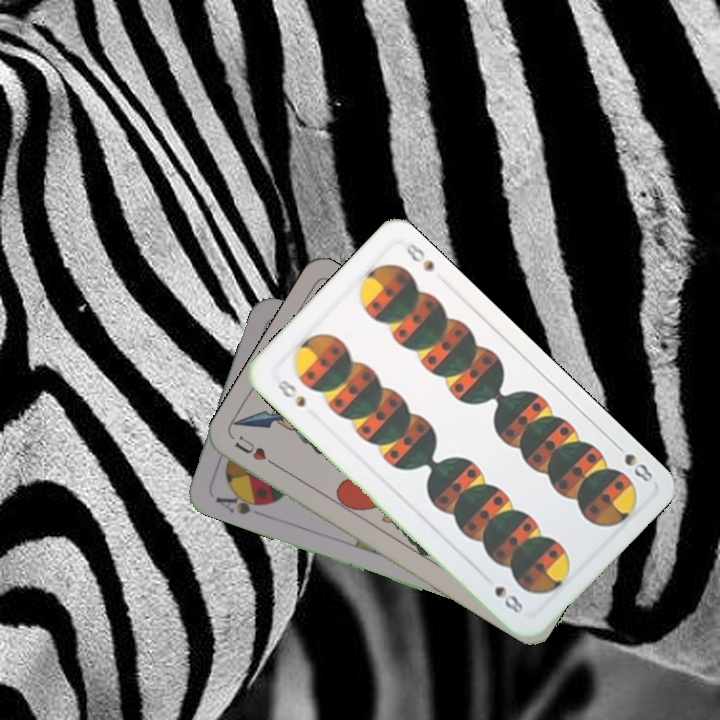HU: (230, 432, 282, 471)
S8: (609, 438, 656, 485), (269, 374, 308, 410)
SA: (211, 486, 269, 517)
